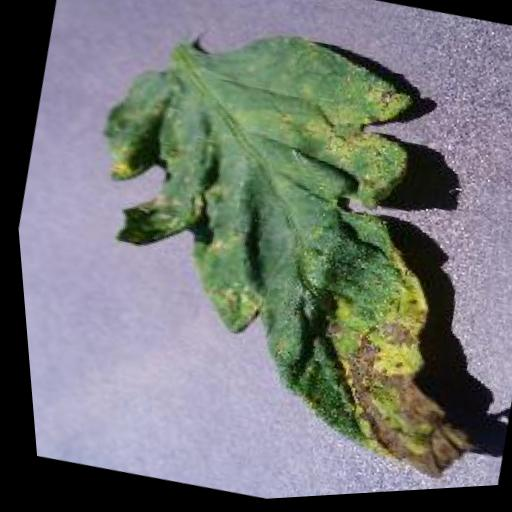Septoria: (31, 0, 512, 506)
